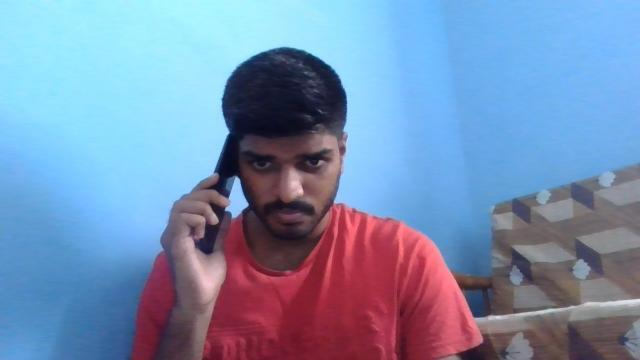PhoneUse: (202, 133, 235, 254)
SafeDriving: (294, 147, 334, 173), (242, 150, 285, 174)
